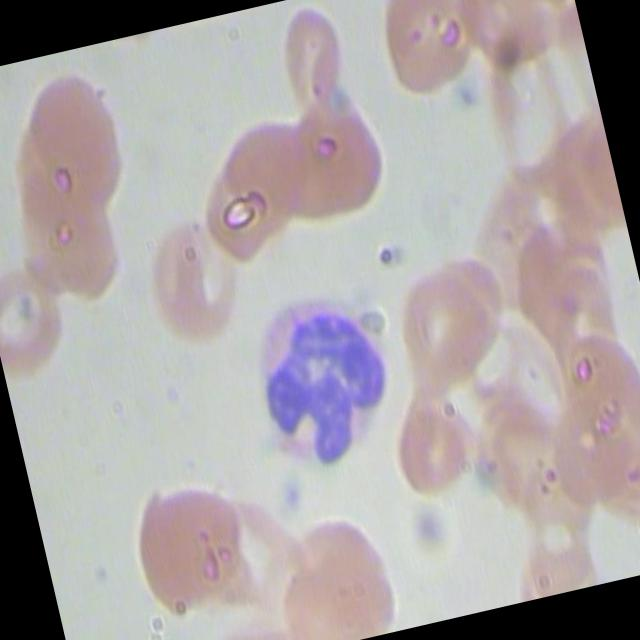Platelets: (404, 494, 458, 554), (264, 459, 318, 519)
RBC: (176, 98, 335, 276), (111, 469, 258, 627), (248, 86, 398, 237), (0, 160, 140, 317), (0, 60, 137, 217), (258, 497, 404, 640), (468, 30, 590, 190), (130, 203, 256, 348), (355, 0, 505, 115), (372, 372, 488, 509), (382, 250, 498, 387), (549, 313, 640, 476), (493, 484, 610, 602), (538, 106, 630, 256), (262, 0, 358, 124), (0, 241, 78, 393)
WBC: (228, 268, 410, 484)
